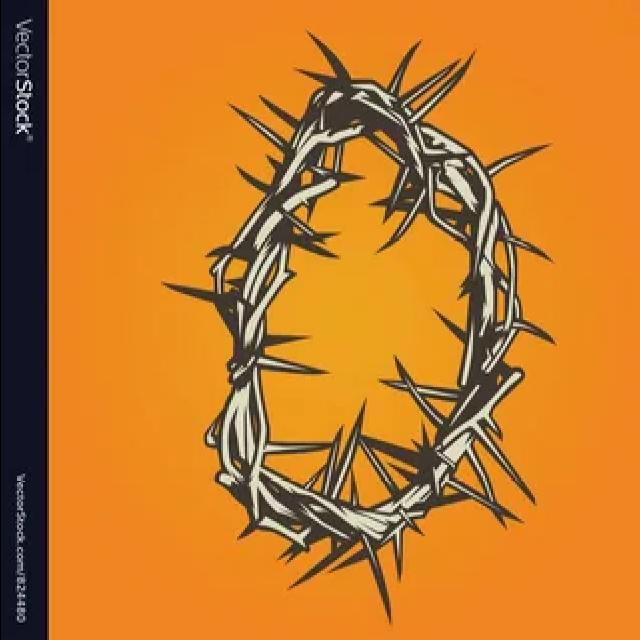crown: (188, 61, 546, 589)
